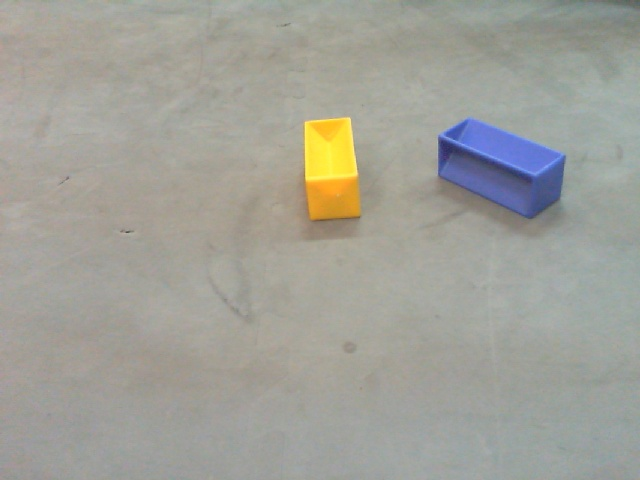BlueSample: (434, 117, 565, 222)
YellowSample: (301, 115, 362, 222)
